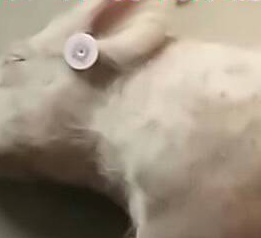text: (54, 28, 111, 80)
